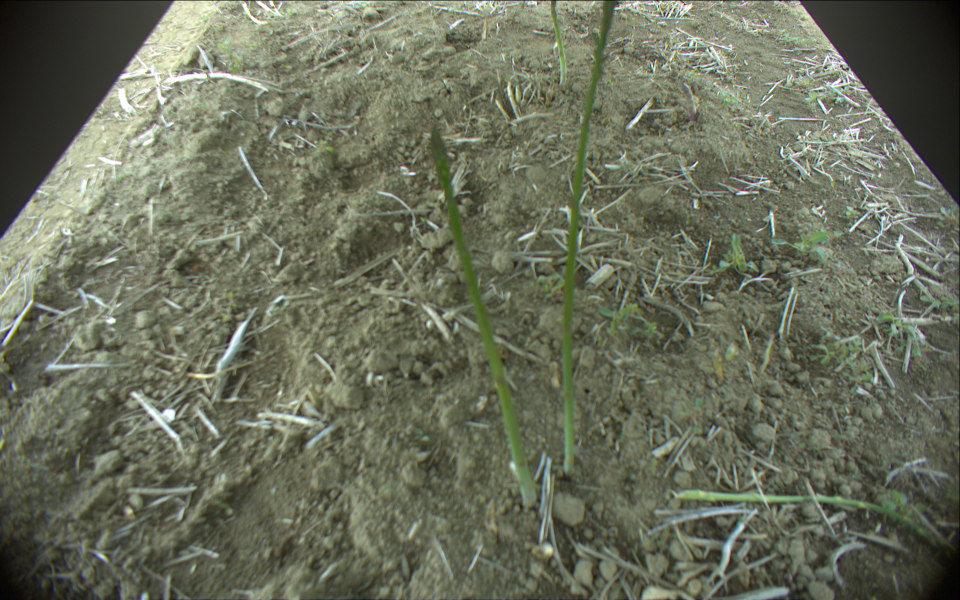aspa: (426, 127, 542, 508), (560, 1, 620, 478), (675, 487, 943, 548), (547, 1, 568, 87)
